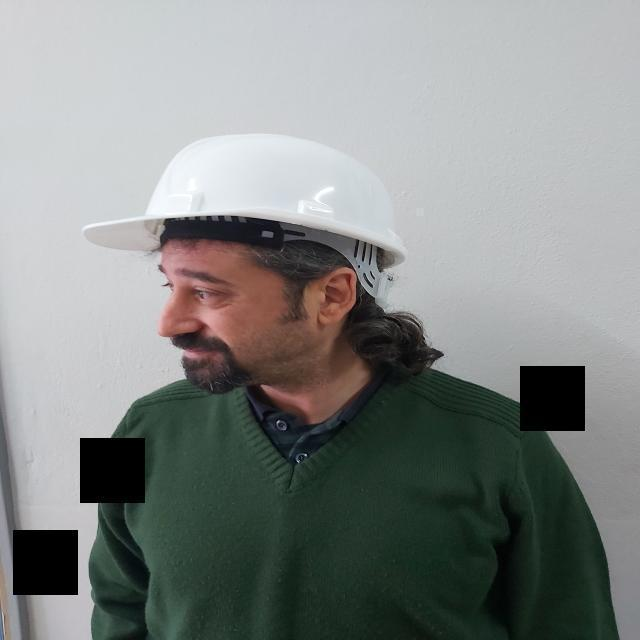white helmet: (79, 130, 417, 268)
